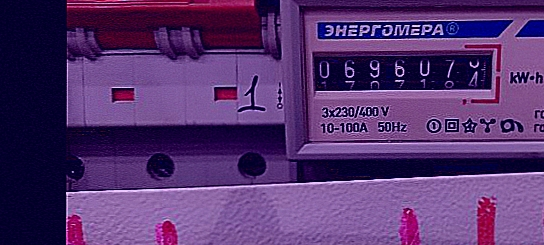0: (415, 56, 430, 78), (315, 59, 329, 80)
4: (465, 69, 478, 90)
6: (340, 58, 354, 79), (390, 58, 404, 78)
7: (440, 58, 455, 79)
9: (365, 58, 378, 79)
screen: (298, 42, 504, 102)
